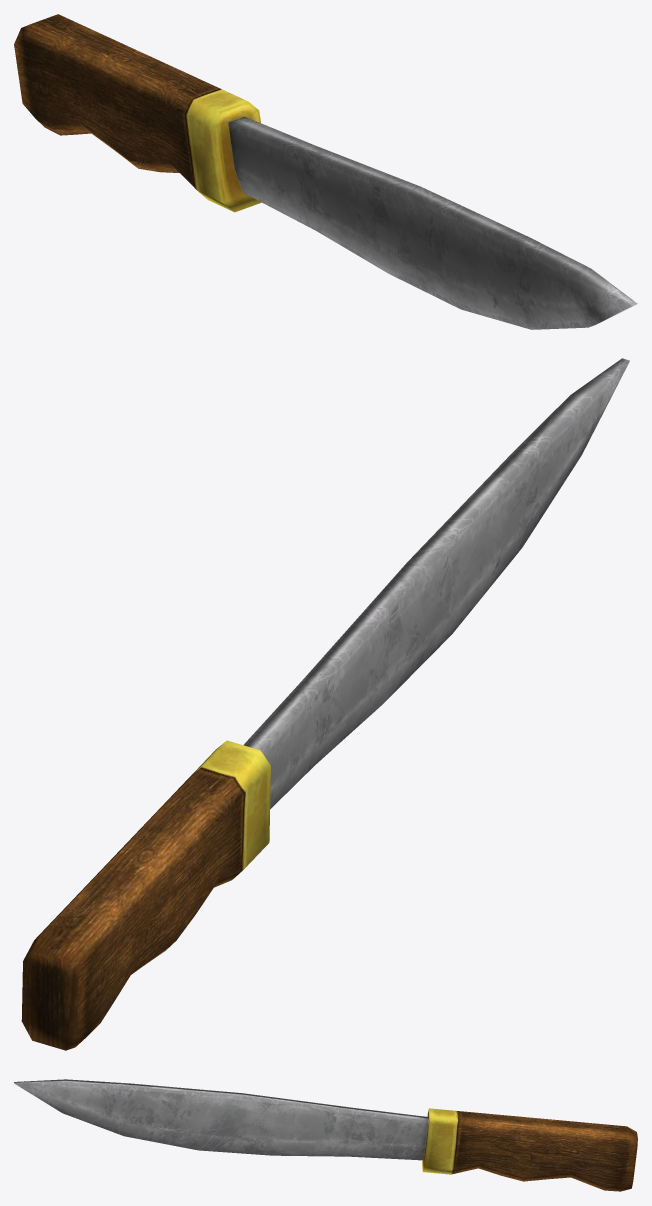
Rendered from knife-base.glb.
3 views of the same model, one above another, from view 1: azimuth 30°, elevation 25°; view 2: azimuth 150°, elevation 25°; view 3: azimuth 270°, elevation 25° (orthographic). The views are drawn at different scales.
Size of the model in its own units: 0.0481 by 0.1329 by 0.6453.
1 material, 1 textured.
